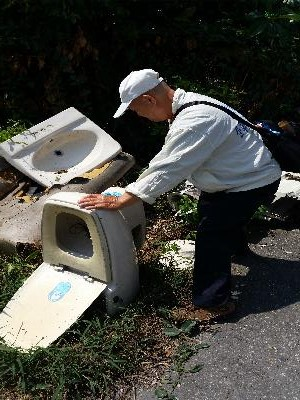bowl: (1, 106, 123, 187)
toilet: (1, 184, 148, 350)
